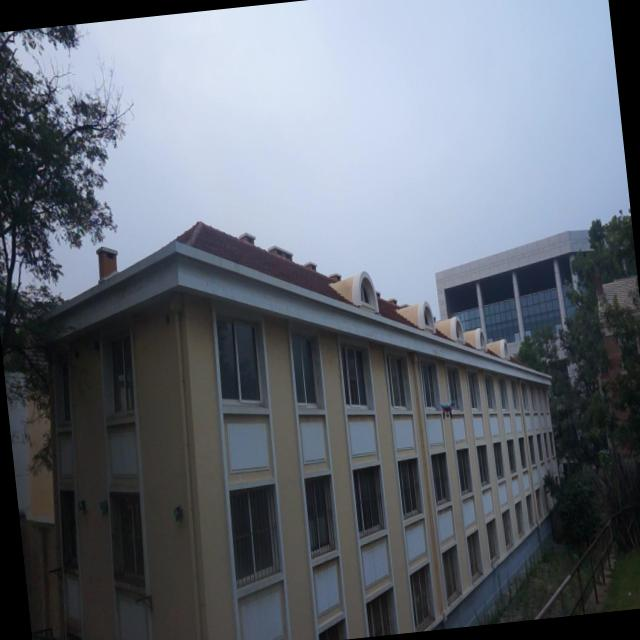drone: (432, 392, 461, 424)
